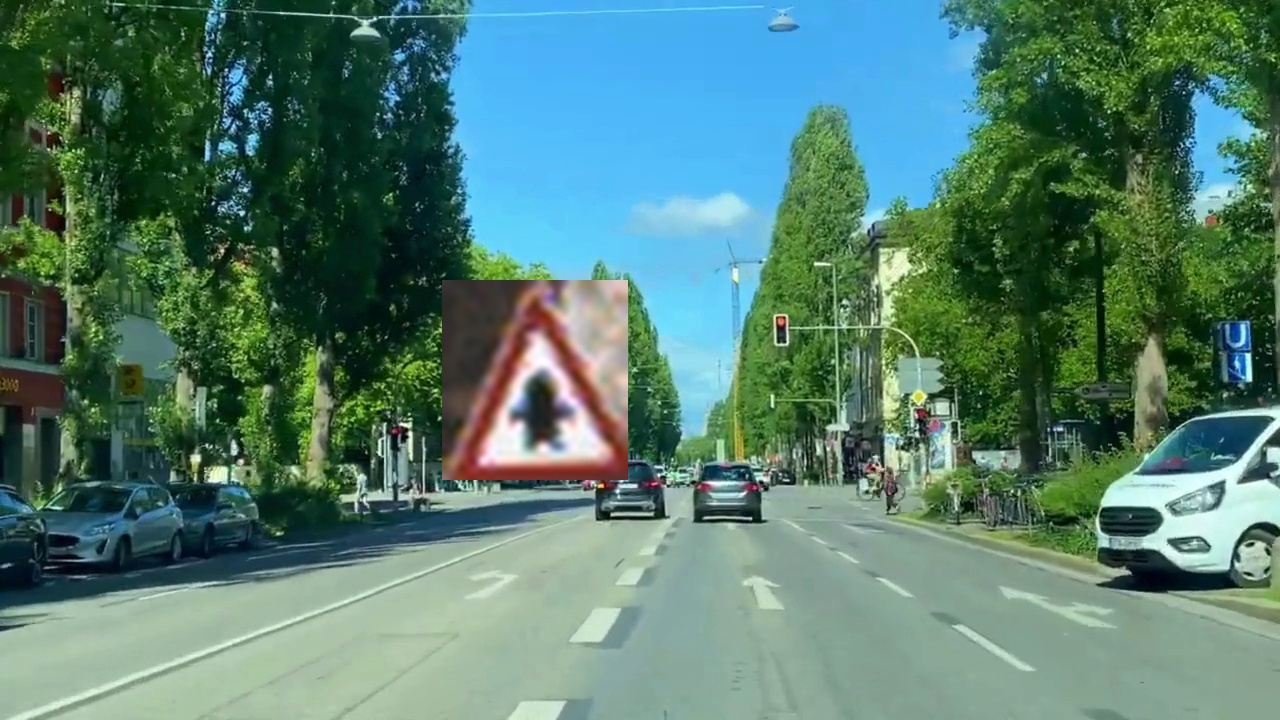Right-of-way: (442, 280, 628, 480)
